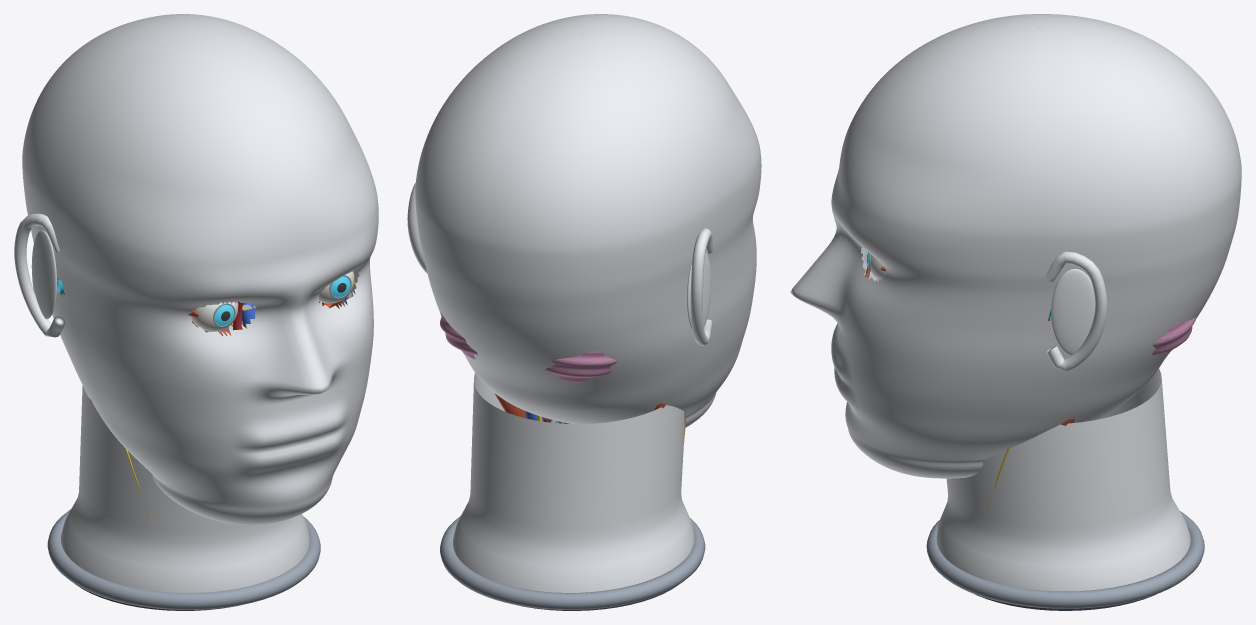
The model's file is android-head.glb.
3 renders of one model, left to right at view 1: azimuth 30°, elevation 25°; view 2: azimuth 150°, elevation 25°; view 3: azimuth 270°, elevation 25°, orthographic. The views are drawn at different scales.
Parts seen in each view (by area): view 1: chassis.shell.00, chassis.shell.01, chassis.jaw.00, chassis.shell.02, sensors.earcanal.04, sensors.earcanal.05, sensors.eye.05; view 2: chassis.shell.00, chassis.shell.01, chassis.shell.02, chassis.jaw.00, sensors.earcanal.04, core.cerebellum.01, sensors.earcanal.01, sensors.earcanal.05, core.cerebellum.00; view 3: chassis.shell.00, chassis.shell.01, chassis.jaw.00, chassis.shell.02, sensors.earcanal.02, sensors.earcanal.01, core.cerebellum.00.
Part boxes in pixels (x1,y1,x2,y2): chassis.shell.00: (22, 14, 378, 450); chassis.shell.01: (61, 385, 309, 592); chassis.jaw.00: (91, 299, 364, 524); chassis.shell.02: (47, 509, 320, 609); sensors.earcanal.04: (14, 213, 65, 337); sensors.earcanal.05: (31, 230, 56, 319); sensors.eye.05: (190, 302, 238, 331); chassis.shell.00: (415, 14, 761, 424); chassis.shell.01: (453, 373, 694, 592); chassis.shell.02: (440, 516, 705, 609); chassis.jaw.00: (685, 306, 750, 427); sensors.earcanal.04: (690, 228, 714, 345); core.cerebellum.01: (545, 351, 617, 382); sensors.earcanal.01: (407, 183, 427, 273); sensors.earcanal.05: (687, 252, 711, 329); core.cerebellum.00: (440, 312, 477, 359); chassis.shell.00: (790, 14, 1241, 452); chassis.shell.01: (936, 368, 1190, 591); chassis.jaw.00: (834, 357, 1003, 478); chassis.shell.02: (926, 511, 1204, 608); sensors.earcanal.02: (1051, 269, 1095, 355); sensors.earcanal.01: (1045, 251, 1107, 371); core.cerebellum.00: (1152, 317, 1195, 355).
Size of the model in its own units: 0.1668 by 0.28 by 0.2162.
